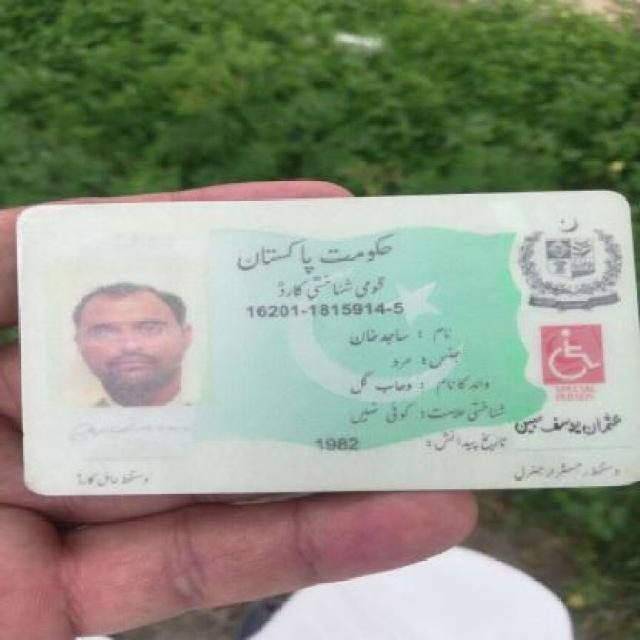Front: (15, 197, 632, 492)
